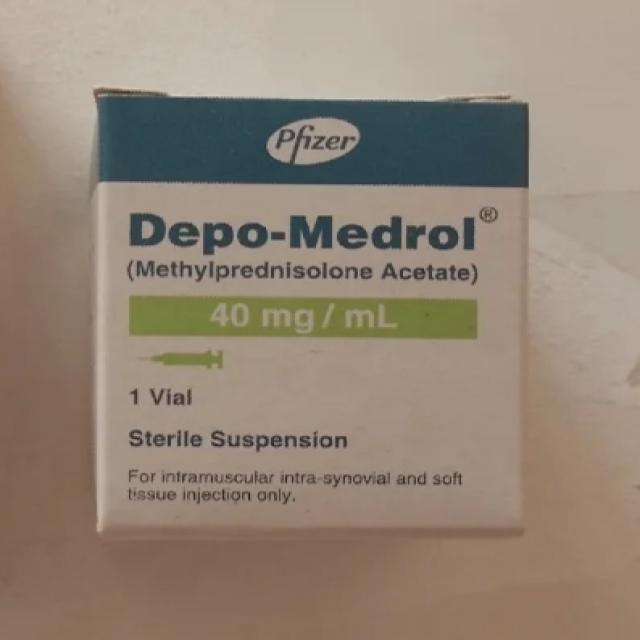drug-name: (125, 206, 479, 258)
